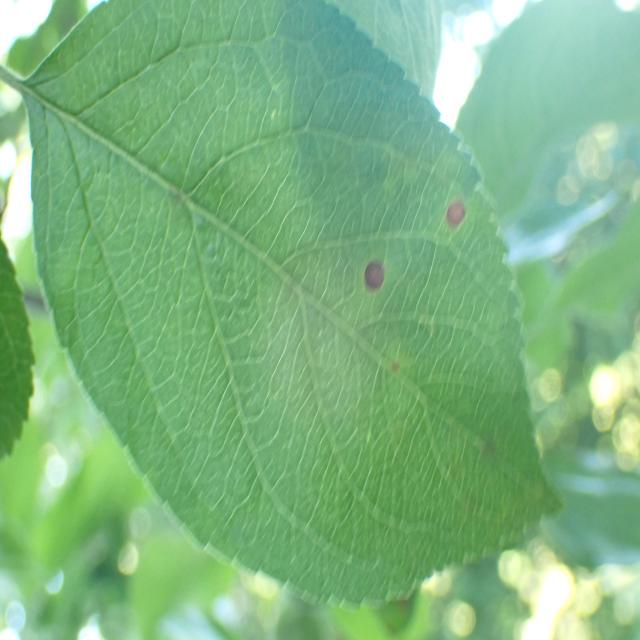Black Rot: (338, 253, 416, 300), (431, 182, 471, 259)
